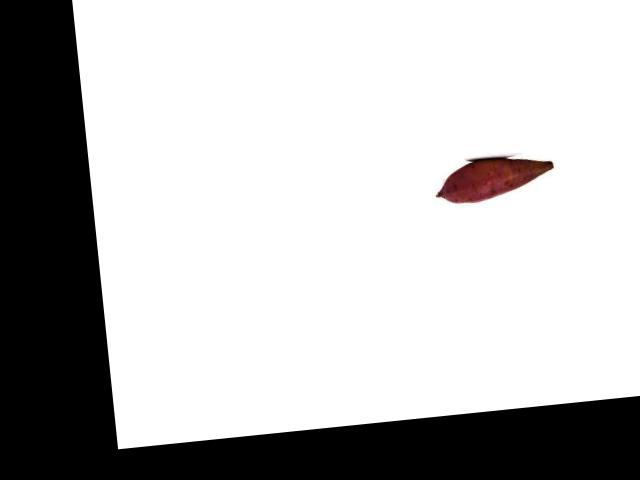sweet_potato: (432, 154, 556, 206)
